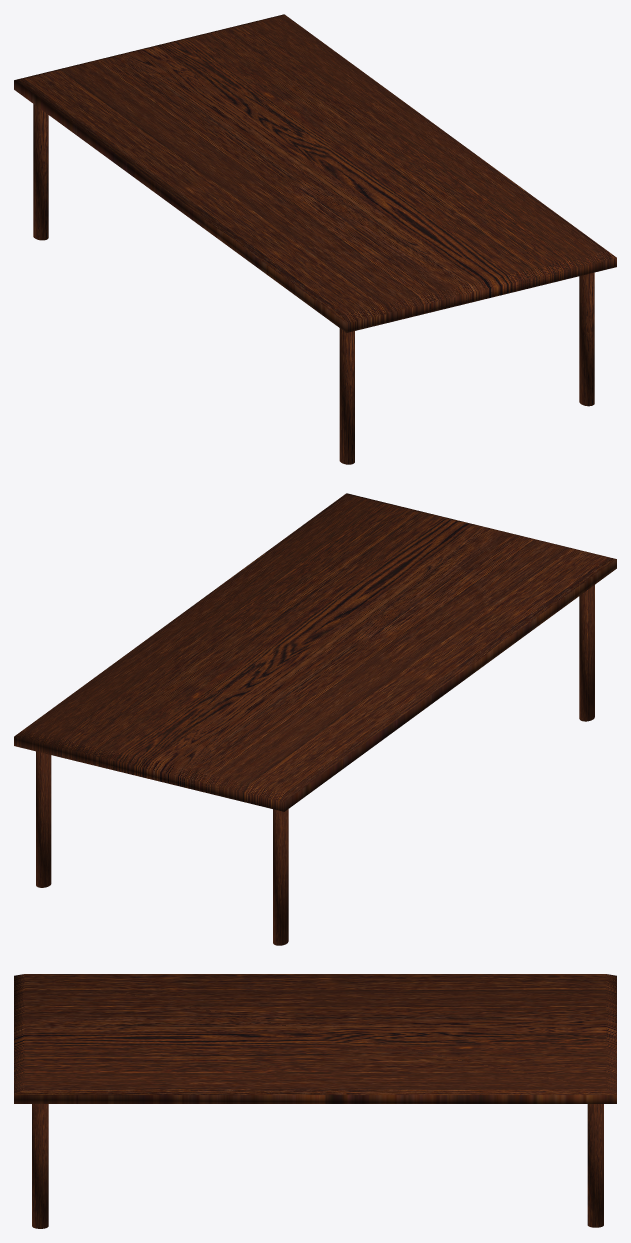
The model's file is table.fbx.
3 views of the same model, one above another, from view 1: azimuth 30°, elevation 25°; view 2: azimuth 150°, elevation 25°; view 3: azimuth 270°, elevation 25° (orthographic). The views are drawn at different scales.
Parts seen in each view (by area): view 1: Table; view 2: Table; view 3: Table.
Part boxes in pixels (x1,y1,x2,y2): Table: [14, 14, 616, 464]; Table: [14, 493, 616, 945]; Table: [14, 974, 616, 1228].
Size of the model in its own units: 3.12 by 1.72 by 6.66.
Materials: 1 (1 with a texture image).
